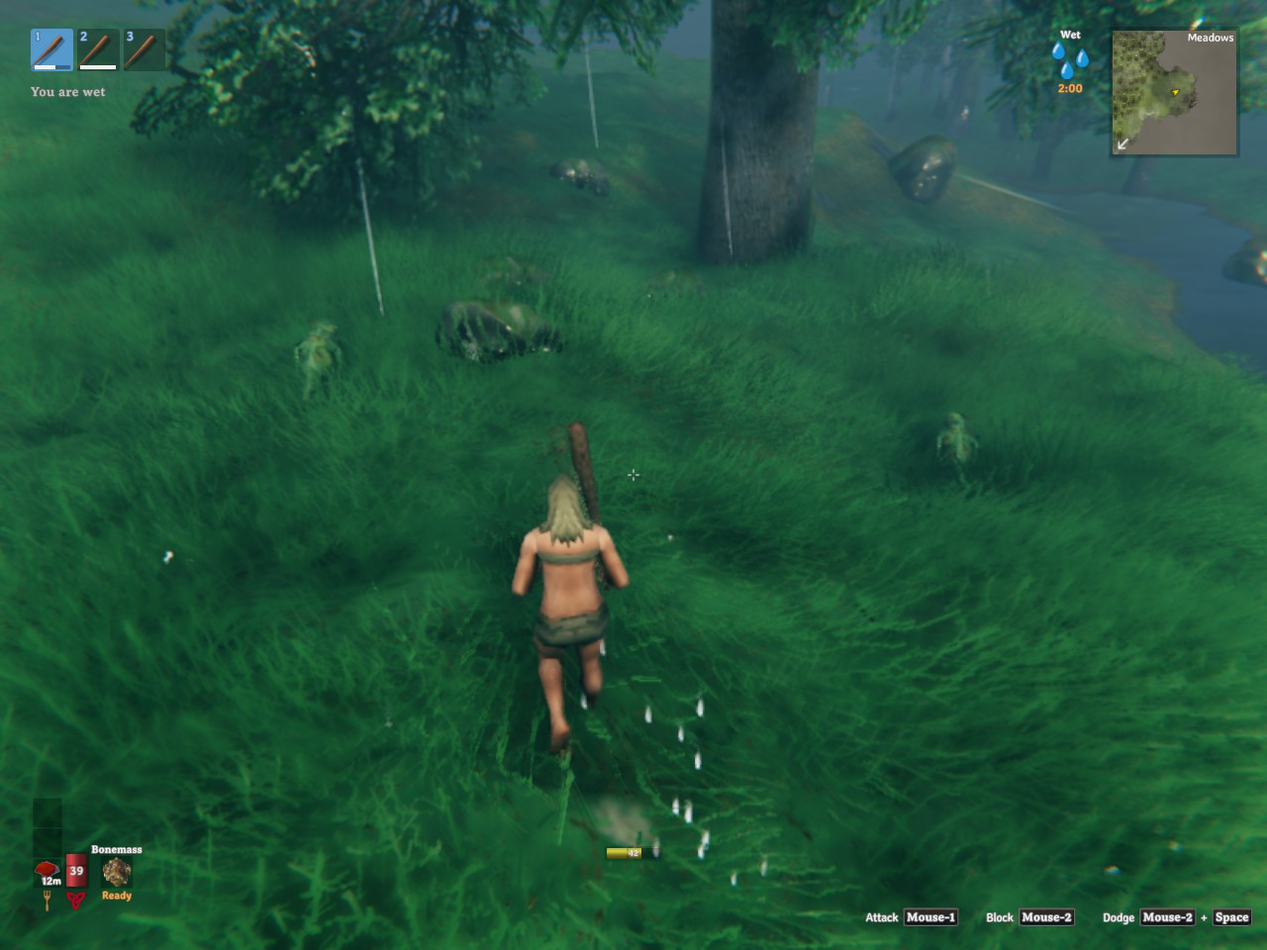Food Indicator: (36, 797, 63, 891)
Health Bar: (63, 820, 90, 891)
Hotbar: (24, 21, 195, 80)
Neck: (294, 322, 341, 400), (936, 413, 979, 486)
Stamina Bar: (601, 841, 662, 865)
Status Indicator: (1024, 22, 1111, 100)
